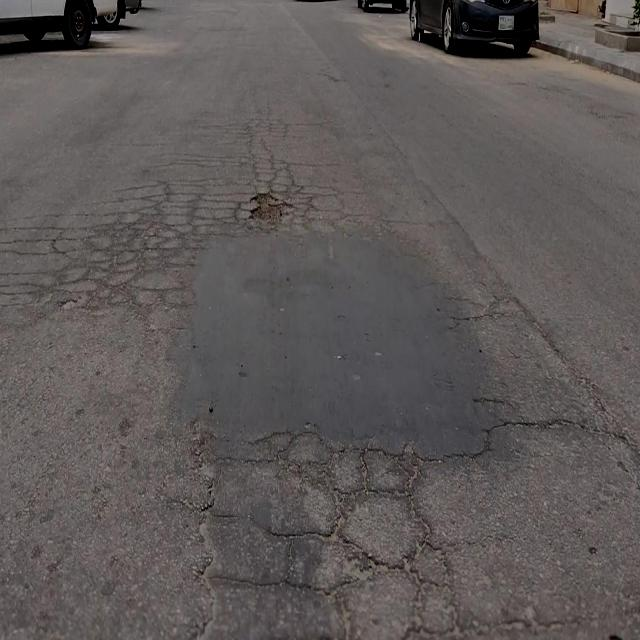Potholes: (247, 190, 294, 225)
